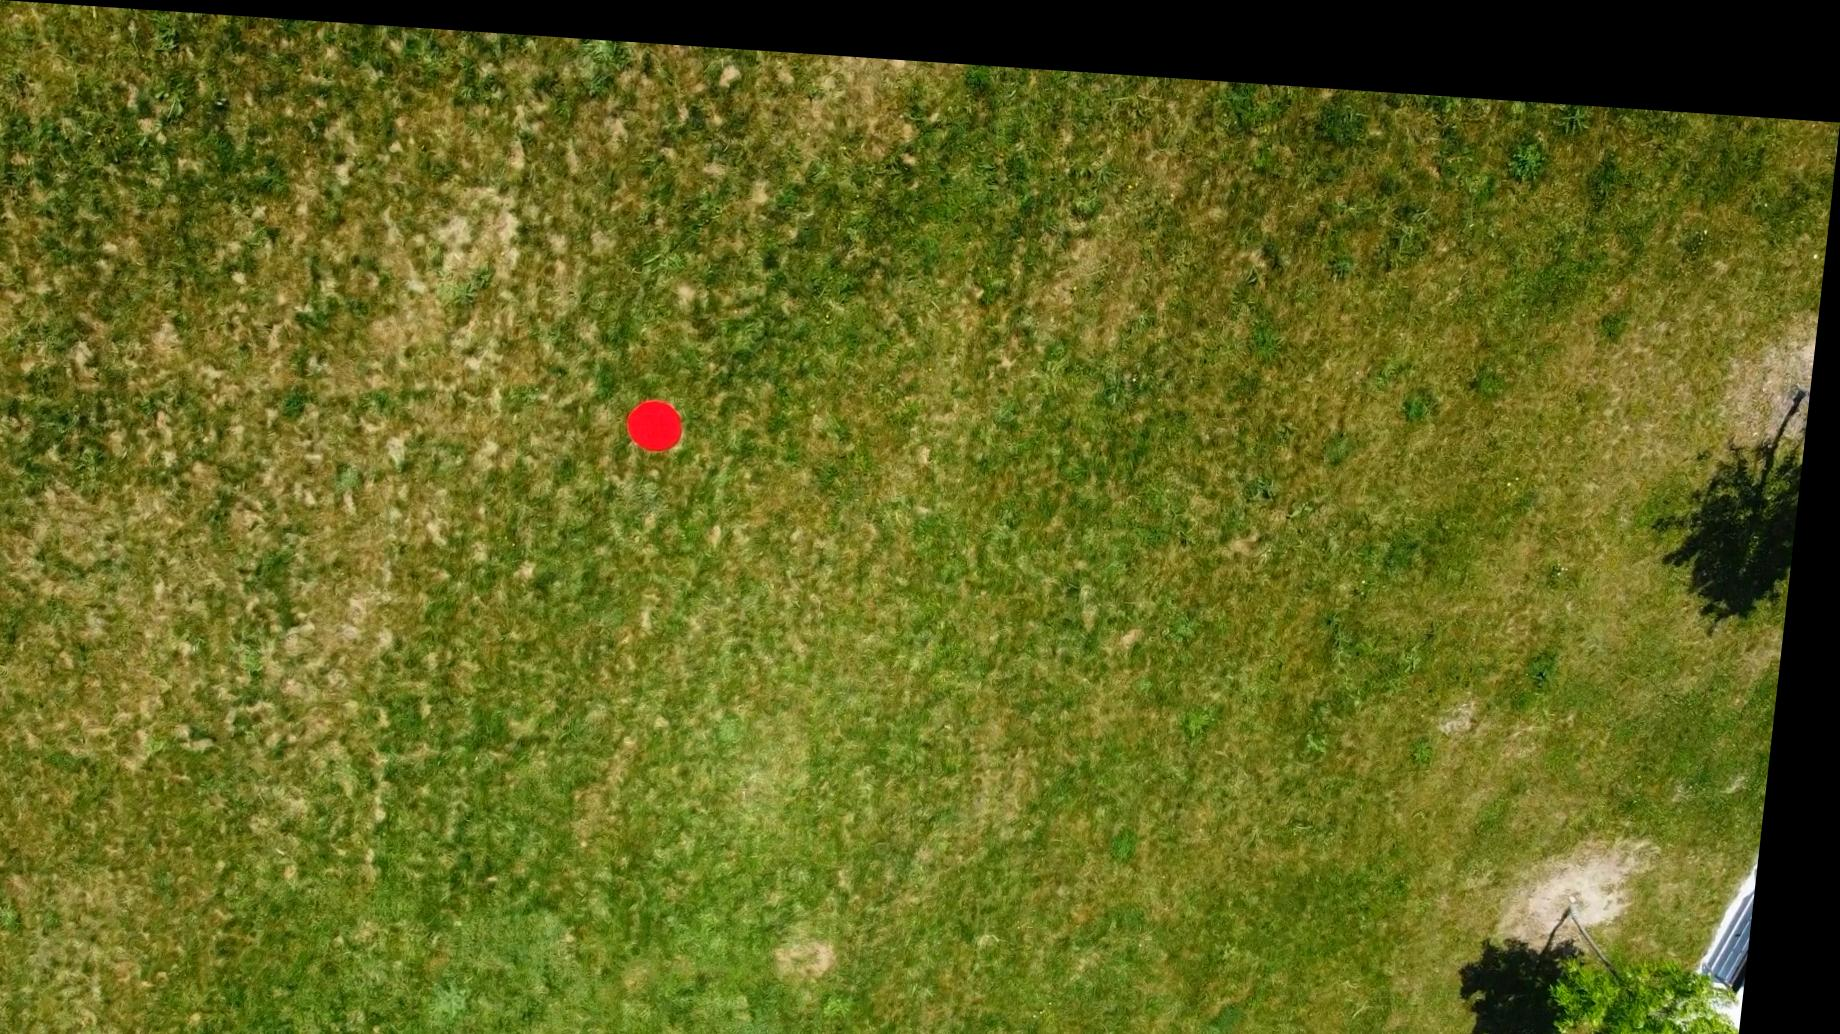Red: (629, 386, 698, 446)
